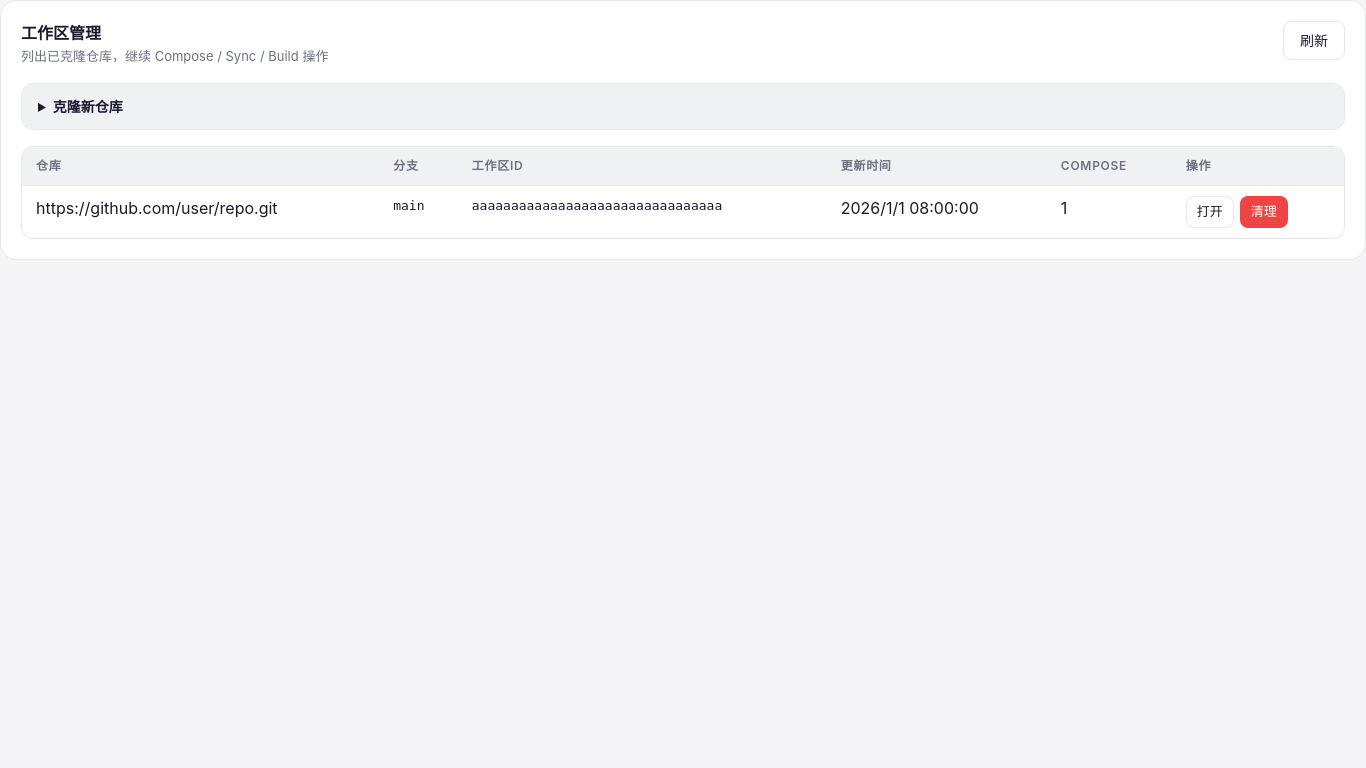
WorkspacePanel › shows env editor when templates exist
Click the button "打开" at (1210, 212), box x1=1186 y1=196 x2=1234 y2=228
(page scrolled)
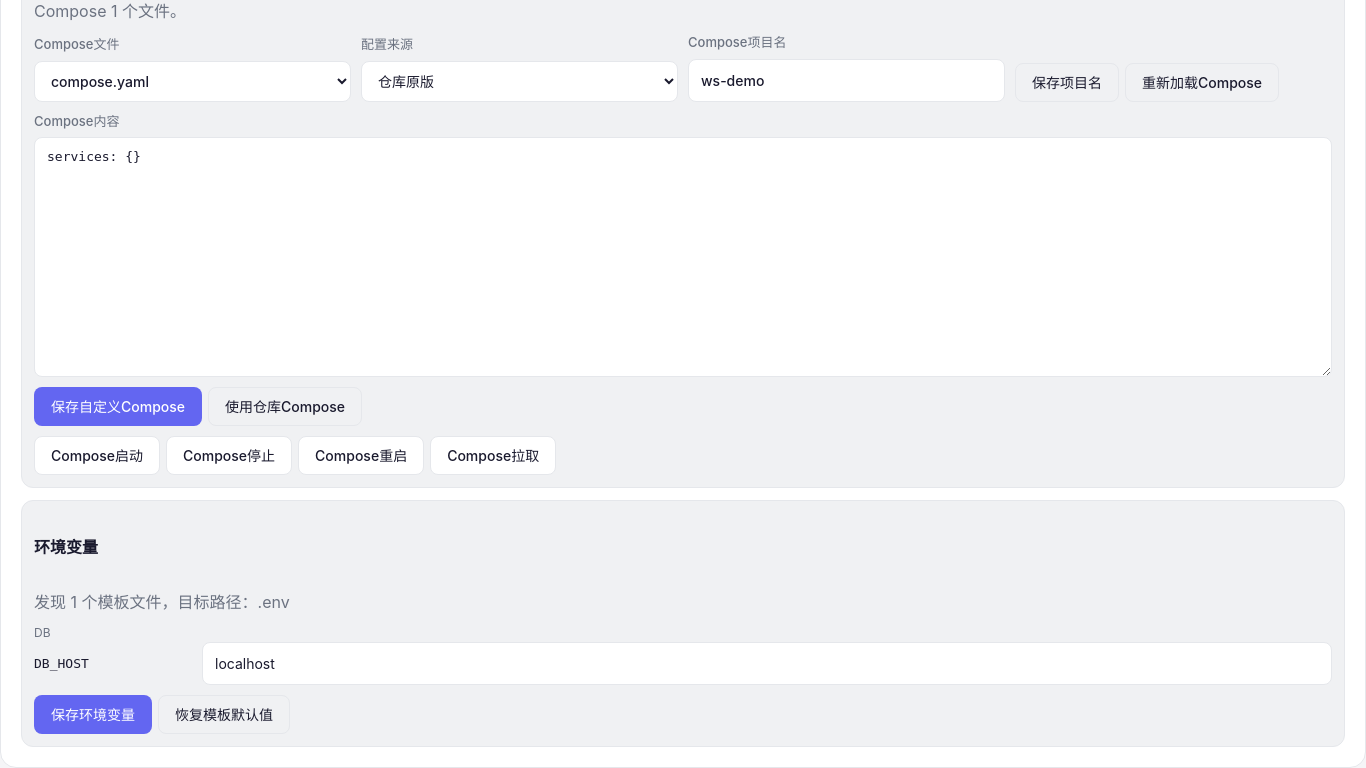
Now the heading "环境变量" is shown, box x1=34 y1=537 x2=98 y2=557
Now the text "DB_HOST" is shown, box x1=34 y1=656 x2=89 y2=671
